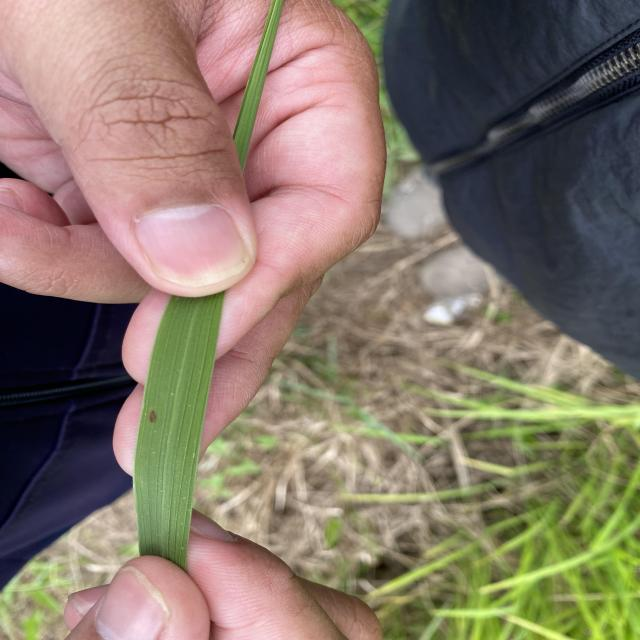Dom nau: (148, 408, 157, 425)
